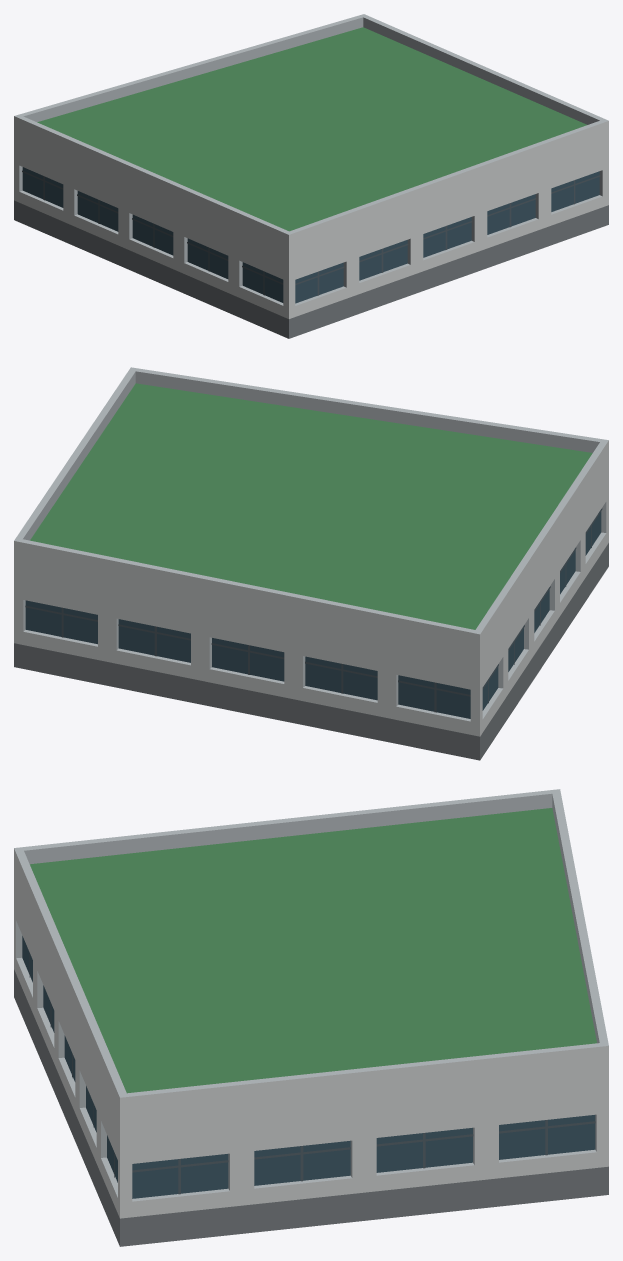
3 views of the same model, one above another, from view 1: azimuth 30°, elevation 25°; view 2: azimuth 150°, elevation 25°; view 3: azimuth 270°, elevation 25° (orthographic). The views are drawn at different scales.
Visible parts, largest first — view 1: shed4__roof, shed4__wall-plaster, shed4__trim-concrete, shed4__base-stone, shed4__glass, shed4__frame; view 2: shed4__roof, shed4__wall-plaster, shed4__trim-concrete, shed4__base-stone, shed4__glass, shed4__frame; view 3: shed4__roof, shed4__wall-plaster, shed4__trim-concrete, shed4__base-stone, shed4__glass, shed4__frame.
Part boxes in pixels (<box>): shed4__roof: <box>37,27,586,231</box>; shed4__wall-plaster: <box>14,116,608,318</box>; shed4__trim-concrete: <box>14,14,608,305</box>; shed4__base-stone: <box>14,200,608,338</box>; shed4__glass: <box>22,167,599,303</box>; shed4__frame: <box>22,170,600,295</box>; shed4__roof: <box>30,383,592,629</box>; shed4__wall-plaster: <box>14,440,608,736</box>; shed4__trim-concrete: <box>14,367,608,721</box>; shed4__base-stone: <box>14,543,608,760</box>; shed4__glass: <box>25,509,601,718</box>; shed4__frame: <box>25,508,602,712</box>; shed4__roof: <box>30,808,596,1093</box>; shed4__wall-plaster: <box>14,848,608,1218</box>; shed4__trim-concrete: <box>14,789,608,1201</box>; shed4__base-stone: <box>14,969,608,1246</box>; shed4__glass: <box>22,936,595,1198</box>; shed4__frame: <box>29,953,595,1194</box>.
Bounding box in the file's own units: 21.09 × 4.75 × 17.18.
